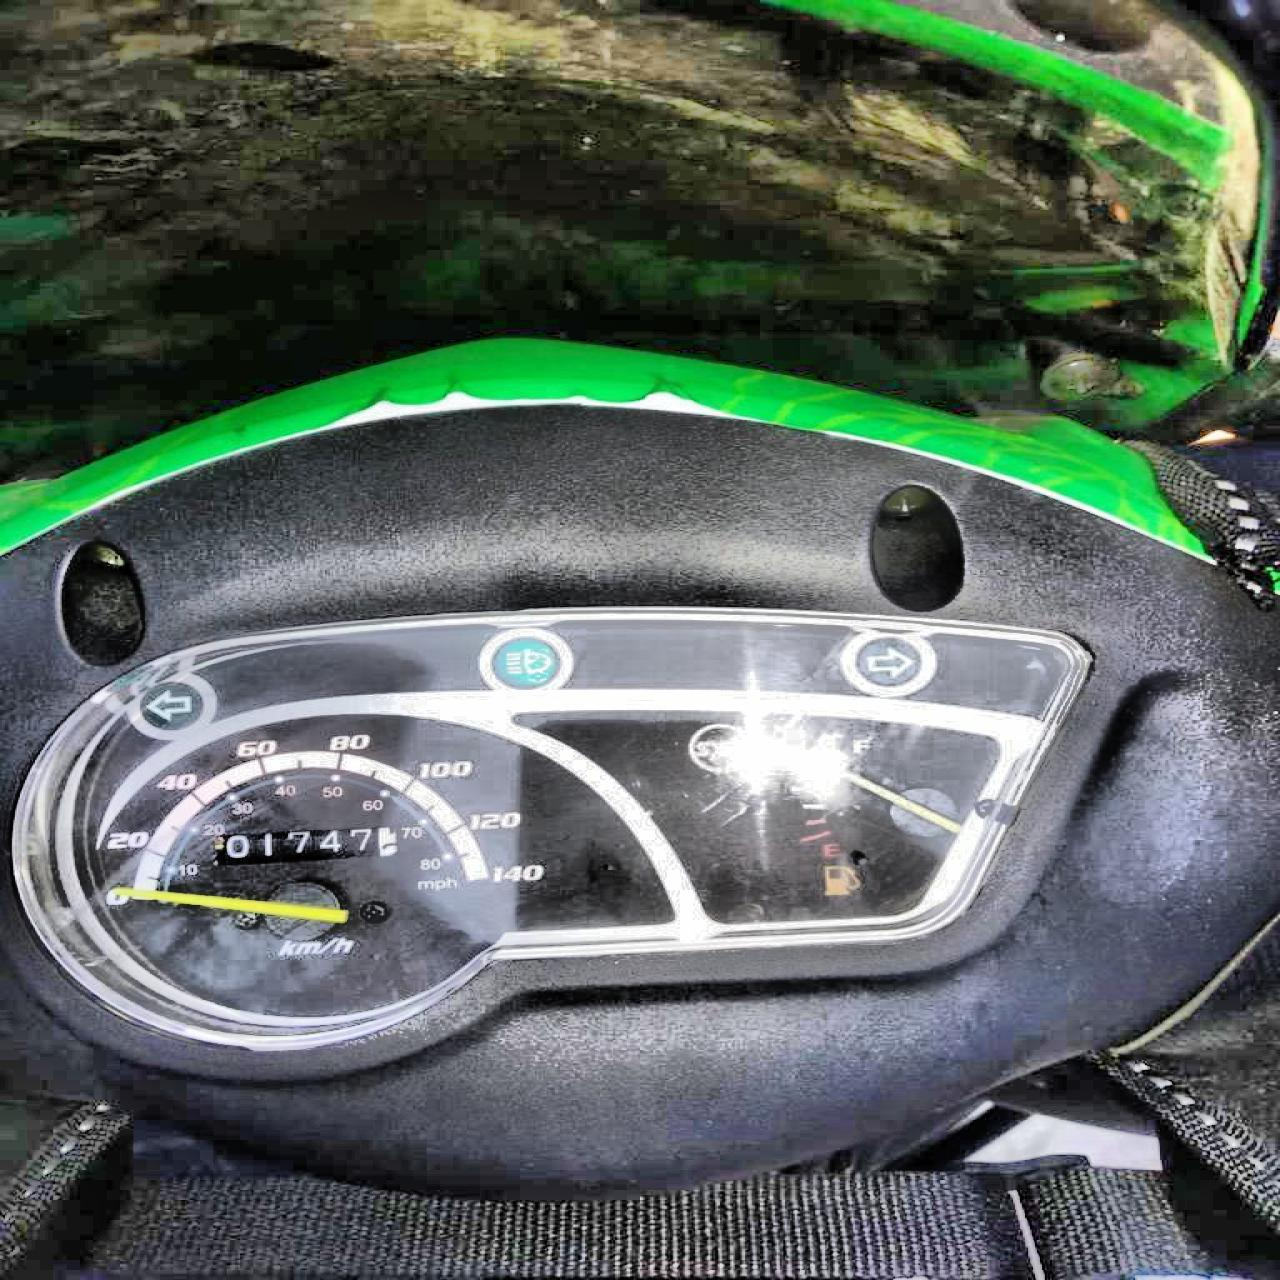0: (223, 831, 252, 862)
1: (260, 829, 273, 860)
2: (380, 840, 399, 859)
4: (316, 829, 341, 853)
7: (284, 828, 312, 853), (347, 826, 373, 853)
odometer: (219, 823, 399, 867)
